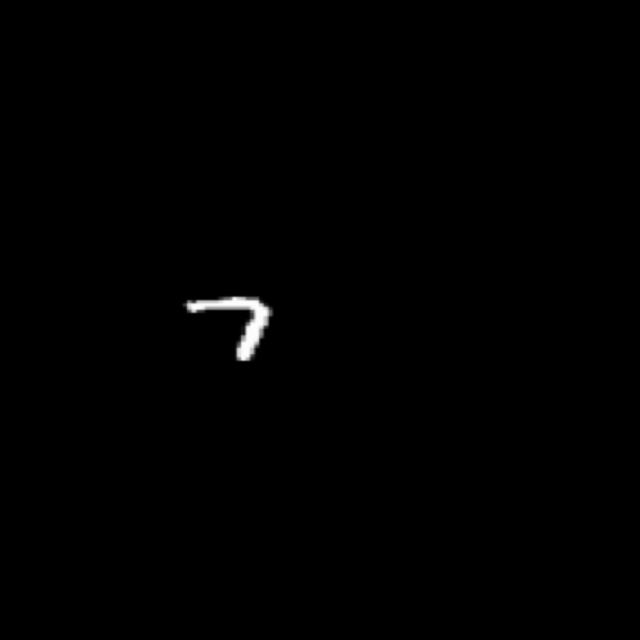seven -7-: (178, 290, 278, 373)
